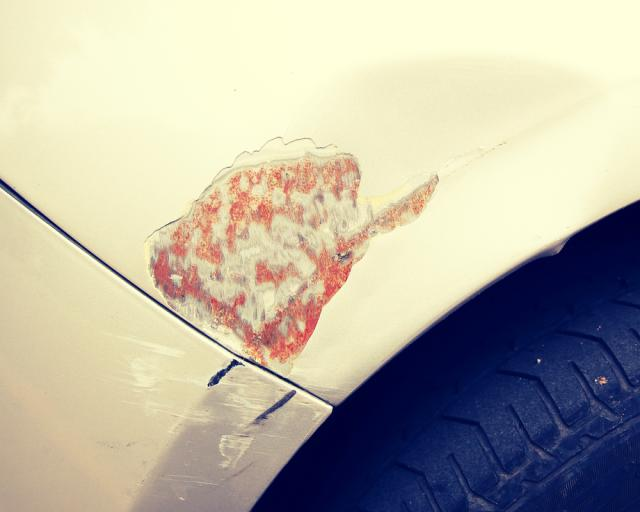scratch: (140, 121, 442, 378), (117, 321, 298, 506)
